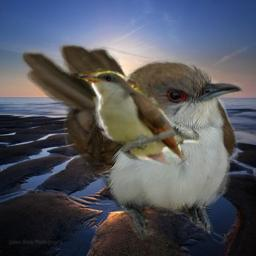Cuckoo: (21, 43, 245, 243), (75, 62, 199, 165)
